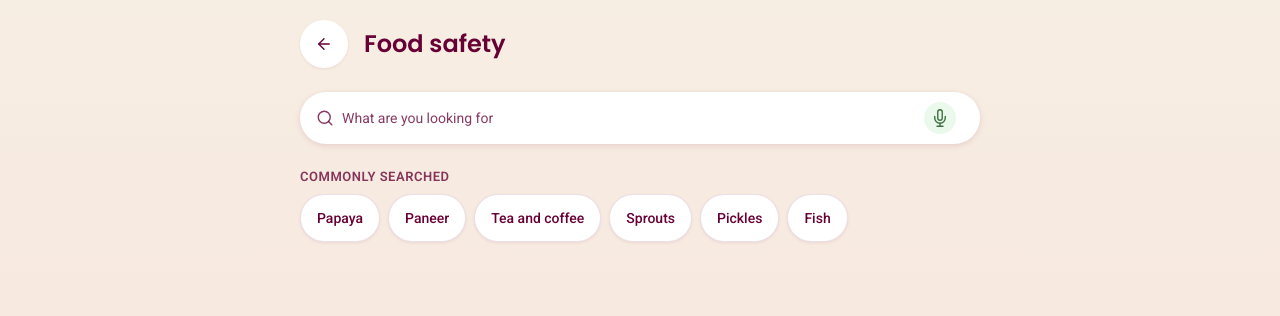
FoodSafetyLookup › shows exactly the item whose name contains the query
Type "sprout" into the search field labelled "What are you looking for".
click(629, 118); type("sprout")  # box [342,108,916,128]
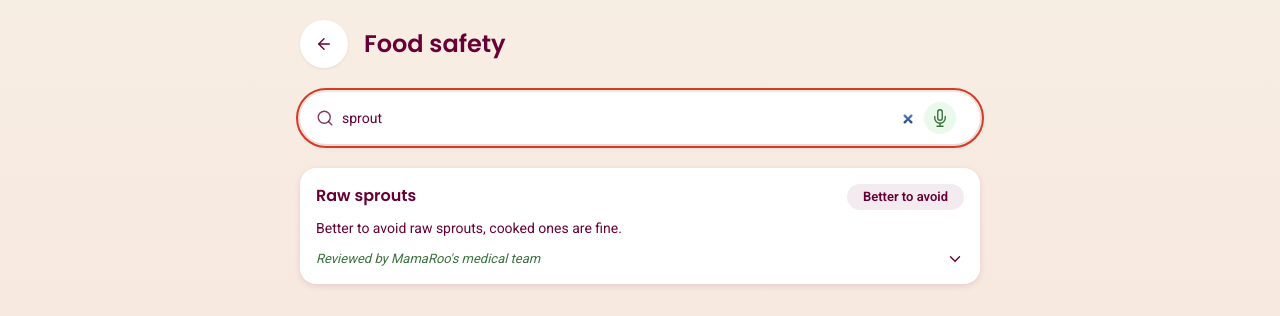
Result: the text "Raw sprouts" is shown at [316,184,416,208]
